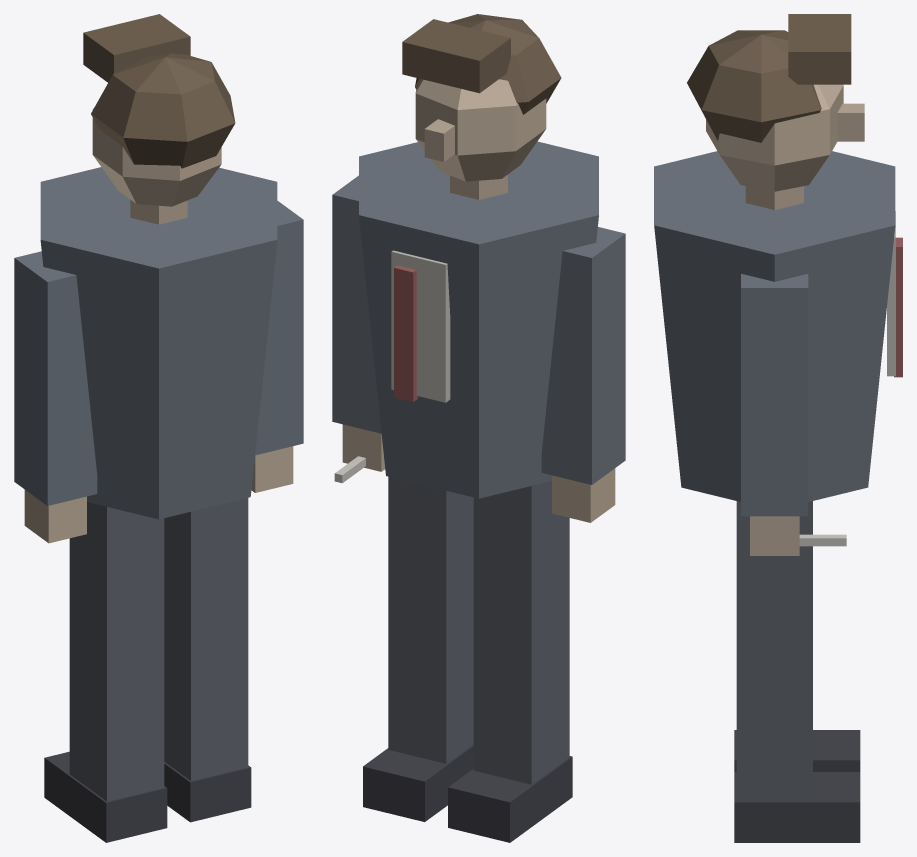
The model's file is personaje_marcos.glb.
3 views of the same model, side by side, from view 1: azimuth 30°, elevation 25°; view 2: azimuth 150°, elevation 25°; view 3: azimuth 270°, elevation 25° (orthographic).
Parts seen in each view (by area): view 1: Marcos_Torso, Marcos_PiernaIzq, Marcos_PiernaDer, Marcos_Cabeza, Marcos_BrazoIzq, Marcos_BrazoDer; view 2: Marcos_Torso, Marcos_PiernaIzq, Marcos_PiernaDer, Marcos_Cabeza, Marcos_BrazoIzq, Marcos_BrazoDer; view 3: Marcos_Torso, Marcos_PiernaDer, Marcos_Cabeza, Marcos_BrazoDer, Marcos_PiernaIzq.
Boxes of the visible parts, bbox=[...] form: Marcos_Torso: bbox=[40, 167, 277, 519]; Marcos_PiernaIzq: bbox=[44, 502, 167, 842]; Marcos_PiernaDer: bbox=[164, 498, 251, 822]; Marcos_Cabeza: bbox=[83, 14, 235, 224]; Marcos_BrazoIzq: bbox=[14, 251, 97, 543]; Marcos_BrazoDer: bbox=[251, 200, 303, 492]; Marcos_Torso: bbox=[359, 141, 598, 498]; Marcos_PiernaIzq: bbox=[448, 481, 572, 842]; Marcos_PiernaDer: bbox=[363, 476, 473, 821]; Marcos_Cabeza: bbox=[402, 14, 561, 199]; Marcos_BrazoIzq: bbox=[541, 227, 625, 522]; Marcos_BrazoDer: bbox=[332, 175, 385, 483]; Marcos_Torso: bbox=[654, 151, 902, 501]; Marcos_PiernaDer: bbox=[734, 501, 860, 842]; Marcos_Cabeza: bbox=[687, 14, 864, 209]; Marcos_BrazoDer: bbox=[741, 273, 846, 555]; Marcos_PiernaIzq: bbox=[734, 730, 860, 771].
Size of the model in its own units: 0.67 by 1.9 by 0.5535.
